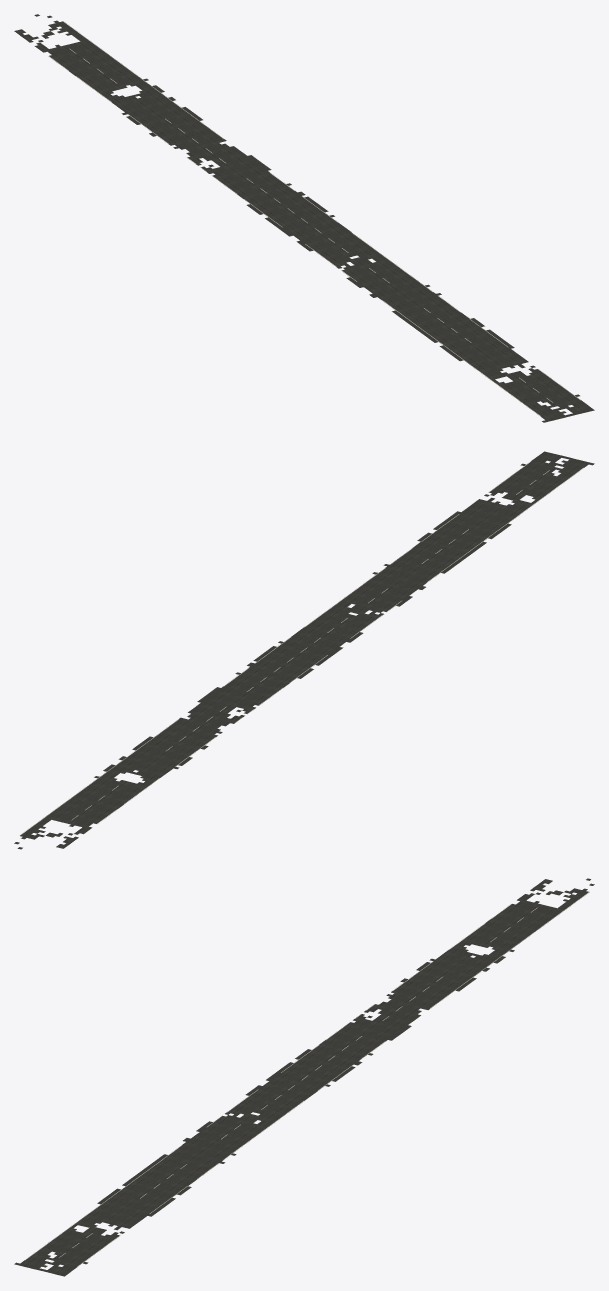
Rendered from road.gltf.
The picture shows the model from 3 angles, top to bottom: view 1: azimuth 30°, elevation 25°; view 2: azimuth 150°, elevation 25°; view 3: azimuth 330°, elevation 25°; orthographic projection.
Parts seen in each view (by area): view 1: road; view 2: road; view 3: road.
Part boxes in pixels (box(x1,y1,x2,y2)): road: box(14, 14, 594, 422); road: box(14, 451, 594, 849); road: box(14, 878, 594, 1276).
Bounding box in the file's own units: 14 × 0.0542 × 240.
